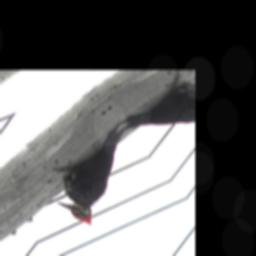Woodpecker: (35, 119, 162, 234)
